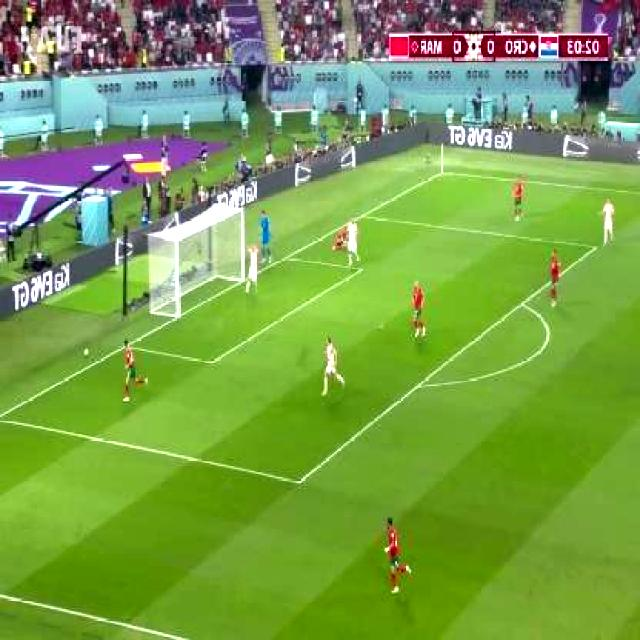bigarea_bottom_inner: (291, 468, 309, 494)
bigarea_top_inner: (589, 235, 605, 257)
bigarea_top_outter: (357, 208, 371, 223)
bottom_arc_area_intersection: (412, 374, 428, 394)
corner: (437, 164, 452, 178)
smallarea_bottom_inner: (203, 348, 223, 374)
smallarea_top_inner: (354, 258, 371, 278)
smallarea_top_outter: (280, 248, 295, 264)
top_arc_area_intersection: (515, 292, 531, 312)
